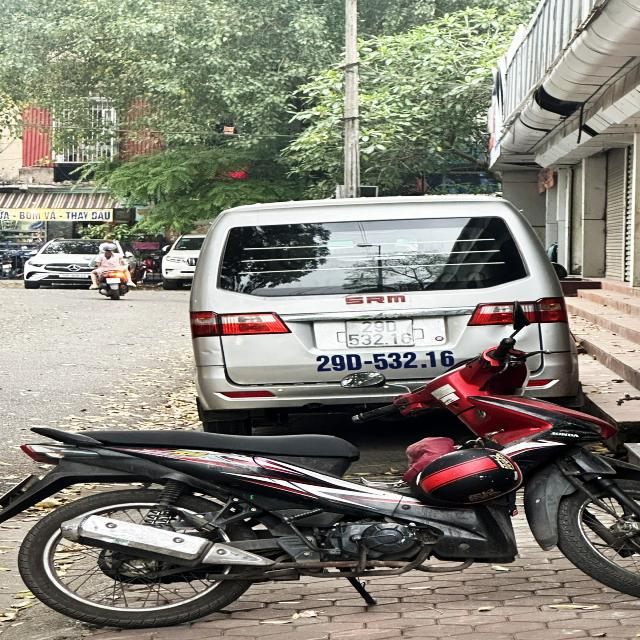license_plate: (347, 319, 418, 349)
